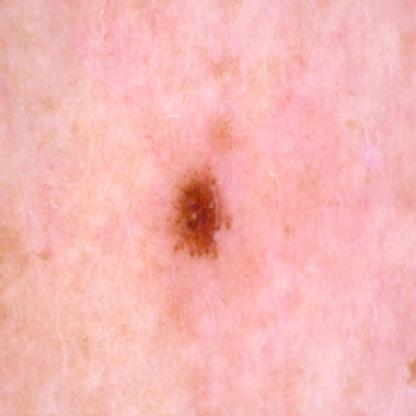benign: (167, 162, 242, 271)
